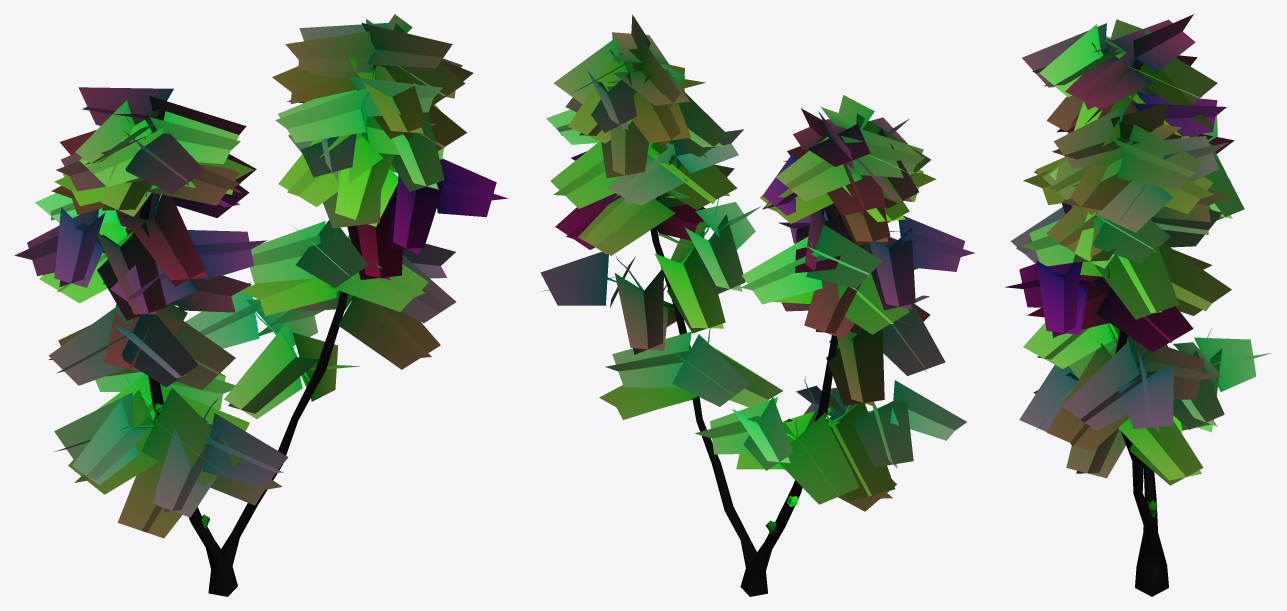
Rendered from M_Realistic7_14.fbx.
3 renders of one model, left to right at view 1: azimuth 30°, elevation 25°; view 2: azimuth 150°, elevation 25°; view 3: azimuth 270°, elevation 25°, orthographic. The views are drawn at different scales.
Visible parts, largest first — view 1: Tree_14; view 2: Tree_14; view 3: Tree_14.
Boxes of the visible parts, x1,y1,x2,y2 form: Tree_14: (14,14,508,596); Tree_14: (540,14,974,596); Tree_14: (1005,14,1271,596).
Bounding box in the file's own units: 1938 × 2309 × 1032.
